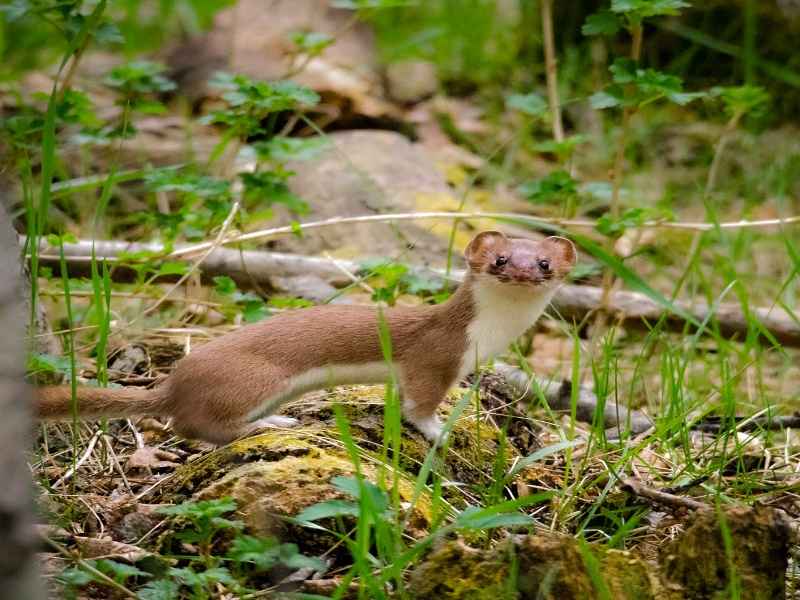minkish: (31, 230, 579, 459)
